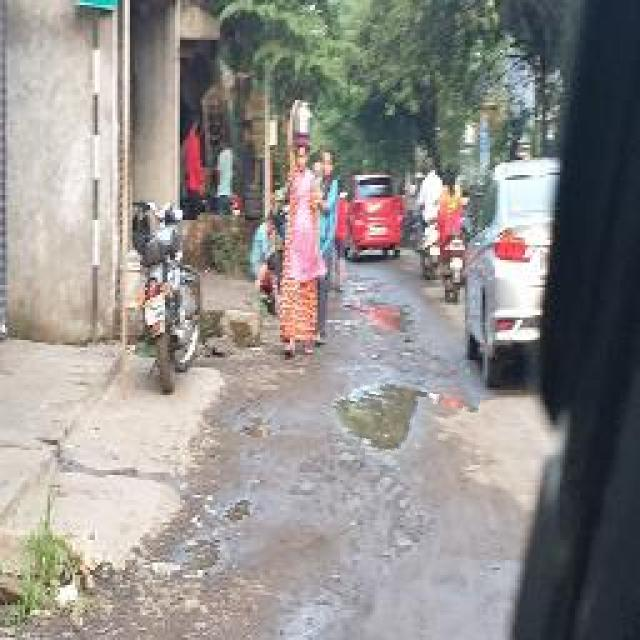puddle: (328, 379, 479, 464)
